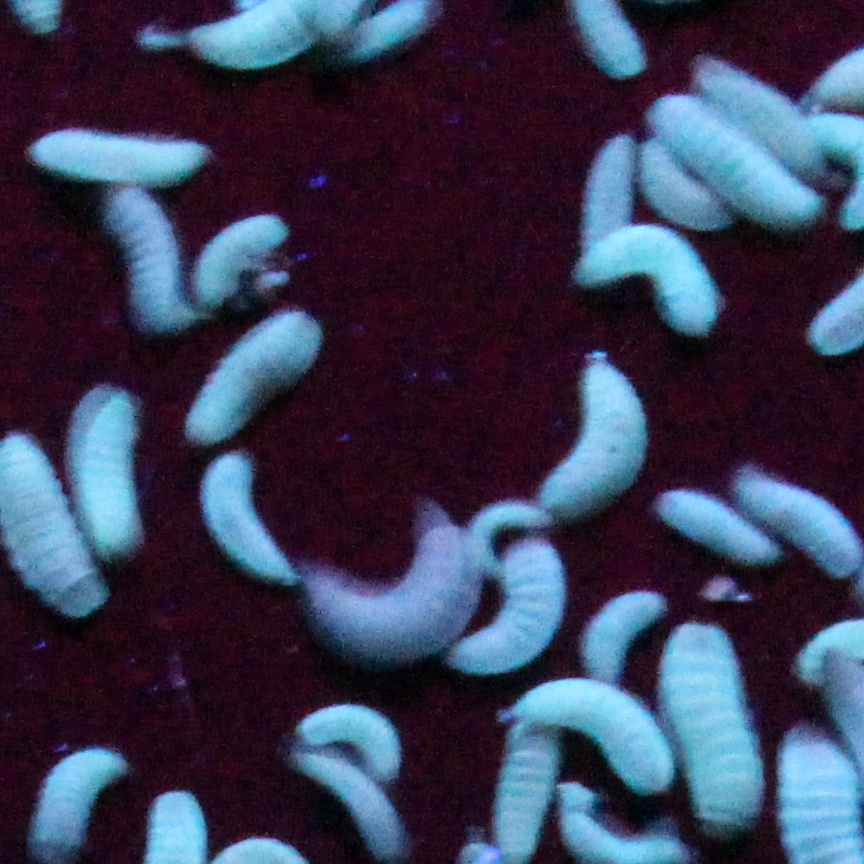larve: (322, 540, 469, 654), (666, 103, 799, 217), (4, 442, 94, 610), (682, 633, 752, 828), (201, 310, 315, 428), (524, 685, 660, 782), (589, 240, 720, 336), (559, 357, 648, 494), (464, 552, 557, 664), (715, 59, 810, 163), (83, 398, 148, 549), (211, 466, 294, 582), (755, 477, 857, 563), (122, 199, 190, 326), (311, 756, 394, 852), (36, 128, 194, 175), (632, 149, 725, 228), (306, 706, 406, 775), (206, 215, 282, 303), (504, 731, 546, 856), (664, 499, 759, 552), (590, 596, 652, 664), (585, 140, 625, 240), (482, 499, 534, 561)
